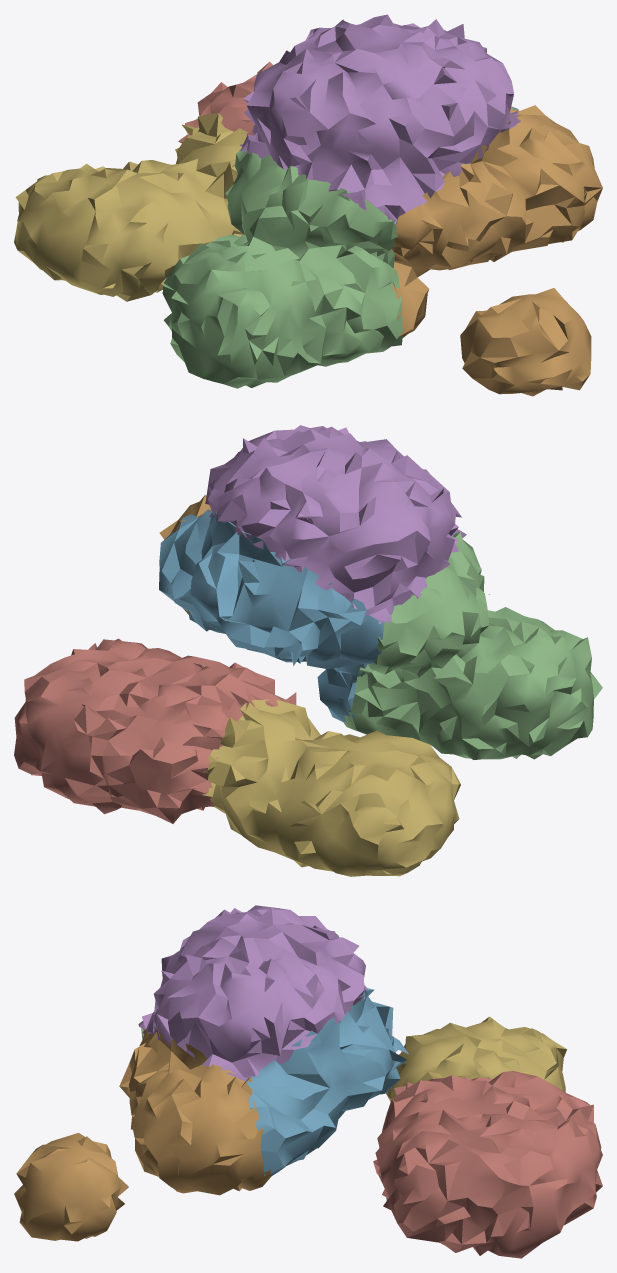
Rendered from stylized-tree-parts_preview_web.glb.
3 views of the same model, one above another, from view 1: azimuth 30°, elevation 25°; view 2: azimuth 150°, elevation 25°; view 3: azimuth 270°, elevation 25° (orthographic). The views are drawn at different scales.
Visible parts, largest first — view 1: part_00_preview; view 2: part_00_preview; view 3: part_00_preview.
Part boxes in pixels (x1=…): part_00_preview: x1=14, y1=14, x2=602, y2=396; part_00_preview: x1=14, y1=425, x2=602, y2=876; part_00_preview: x1=14, y1=905, x2=602, y2=1258.
Bounding box in the file's own units: 1.51 × 1.05 × 1.95.
